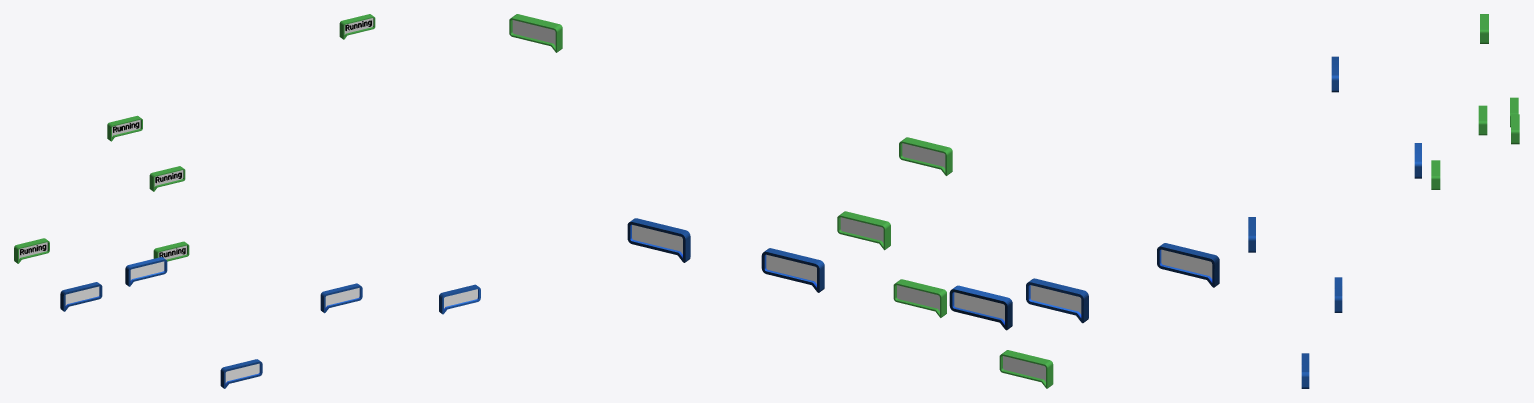
Rendered from pop_up_contact_me.glb.
3 views of the same model, side by side, from view 1: azimuth 30°, elevation 25°; view 2: azimuth 150°, elevation 25°; view 3: azimuth 270°, elevation 25° (orthographic). The views are drawn at different scales.
Visible parts, largest first — view 1: pop_up_running, pop_up_games, pop_up_share_knowledge, pop_up_contact_me, pop_up_photography_left, pop_up_running.004, pop_up_running.009, pop_up_running.003, pop_up_running.005, pop_up_running.007; view 2: pop_up_photography_left, pop_up_share_knowledge, pop_up_contact_me, pop_up_running, pop_up_games, pop_up_running.003, pop_up_running.004, pop_up_running.005, pop_up_running.009, pop_up_running.007; view 3: pop_up_share_knowledge, pop_up_photography_left, pop_up_running.004, pop_up_running.007, pop_up_games, pop_up_running, pop_up_contact_me, pop_up_running.009, pop_up_running.005.
Part boxes in pixels (<box>): pop_up_running: <box>220,359,262,388</box>; pop_up_games: <box>60,282,102,311</box>; pop_up_share_knowledge: <box>320,283,362,313</box>; pop_up_contact_me: <box>125,257,167,286</box>; pop_up_photography_left: <box>439,284,480,314</box>; pop_up_running.004: <box>149,166,185,191</box>; pop_up_running.009: <box>339,14,375,39</box>; pop_up_running.003: <box>14,238,49,263</box>; pop_up_running.005: <box>107,115,142,141</box>; pop_up_running.007: <box>153,241,189,261</box>; pop_up_photography_left: <box>627,218,690,262</box>; pop_up_share_knowledge: <box>761,248,824,292</box>; pop_up_contact_me: <box>949,285,1012,330</box>; pop_up_running: <box>1026,278,1088,323</box>; pop_up_games: <box>1157,243,1219,287</box>; pop_up_running.003: <box>999,350,1053,388</box>; pop_up_running.004: <box>837,211,890,250</box>; pop_up_running.005: <box>899,137,952,175</box>; pop_up_running.009: <box>509,14,562,52</box>; pop_up_running.007: <box>893,279,946,317</box>; pop_up_share_knowledge: <box>1334,277,1342,312</box>; pop_up_photography_left: <box>1301,353,1309,388</box>; pop_up_running.004: <box>1478,105,1487,135</box>; pop_up_running.007: <box>1431,160,1440,189</box>; pop_up_games: <box>1331,56,1338,92</box>; pop_up_running: <box>1248,217,1255,252</box>; pop_up_contact_me: <box>1414,143,1421,178</box>; pop_up_running.009: <box>1511,114,1519,144</box>; pop_up_running.005: <box>1480,14,1488,43</box>.
Bounding box in the file's own units: 33.82 × 18.01 × 17.28.
8 materials, 5 textured.
